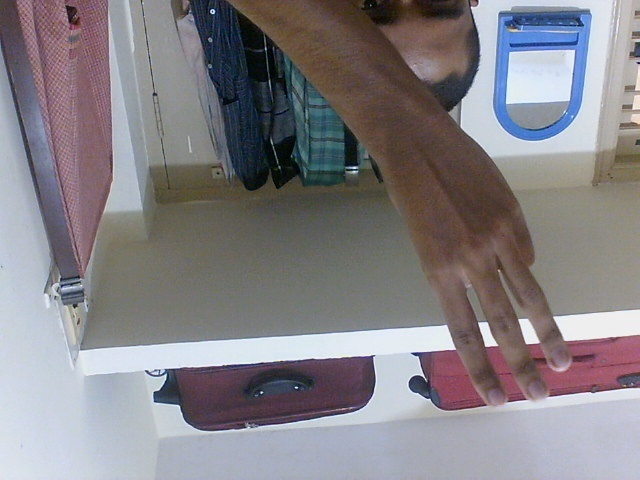hand: (348, 118, 574, 411)
